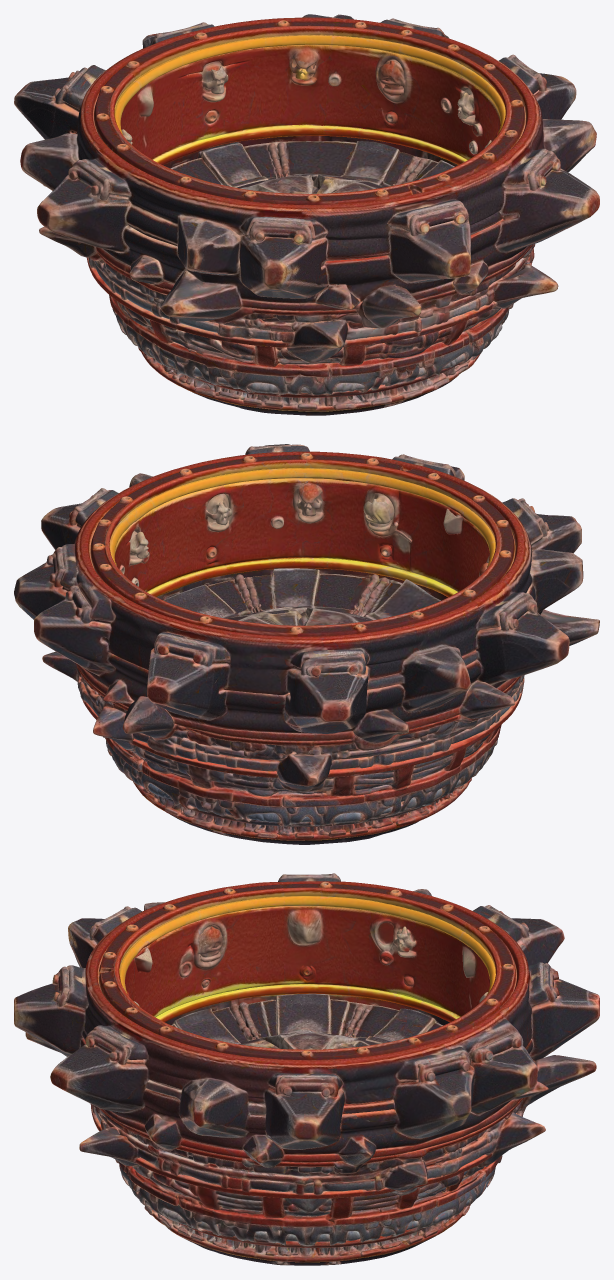
File: energy_core.glb
The picture shows the model from 3 angles, top to bottom: view 1: azimuth 30°, elevation 25°; view 2: azimuth 150°, elevation 25°; view 3: azimuth 270°, elevation 25°; orthographic projection. The views are drawn at different scales.
Bounding box in the file's own units: 1.9 × 0.9024 × 1.9.
Materials: 1 (1 with a texture image).
